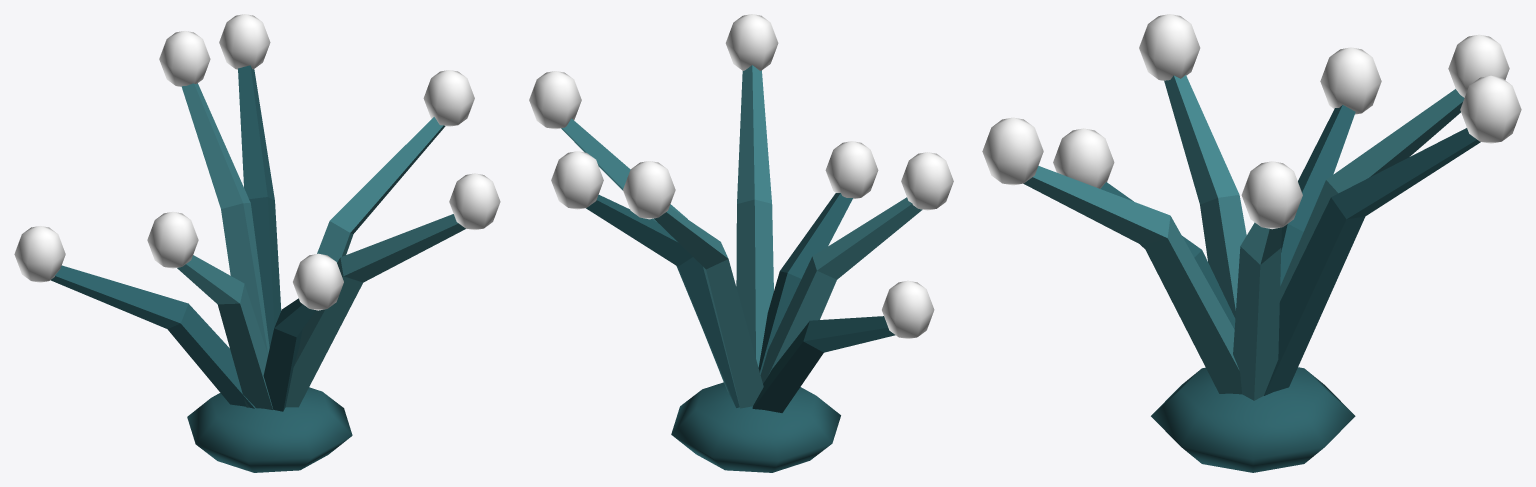
File: GlowTuft.fbx
3 renders of one model, left to right at view 1: azimuth 30°, elevation 25°; view 2: azimuth 150°, elevation 25°; view 3: azimuth 270°, elevation 25°, orthographic. The views are drawn at different scales.
Visible parts, largest first — view 1: Frame, Glow; view 2: Frame, Glow; view 3: Frame, Glow.
Boxes of the visible parts, x1,y1,x2,y2 form: Frame: (50,65,465,472); Glow: (14,14,500,310); Frame: (561,65,922,472); Glow: (529,14,953,338); Frame: (1023,75,1480,472); Glow: (982,14,1521,229).
Size of the model in its own units: 1.68 by 1.37 by 1.58.
1 material, 1 textured.
